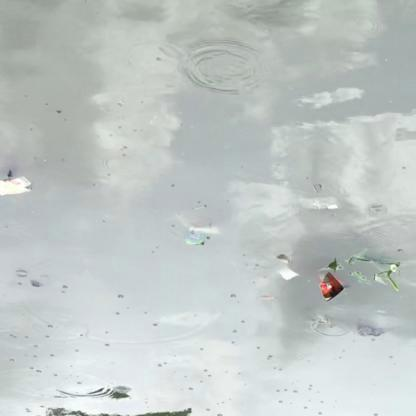Metal: (319, 275, 344, 305)
Trash: (182, 219, 216, 252), (0, 167, 32, 200), (281, 264, 297, 287)
